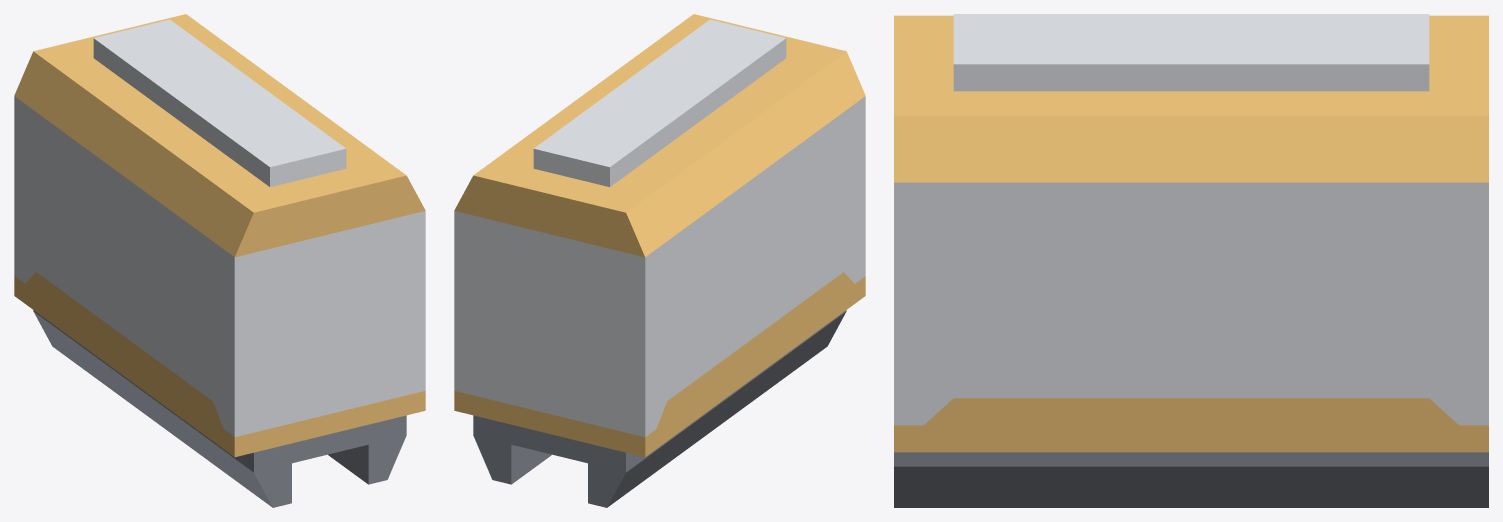
File: monorail_trainBox.glb
3 views of the same model, side by side, from view 1: azimuth 30°, elevation 25°; view 2: azimuth 150°, elevation 25°; view 3: azimuth 270°, elevation 25° (orthographic). The views are drawn at different scales.
Visible parts, largest first — view 1: monorail_trainBox; view 2: monorail_trainBox; view 3: monorail_trainBox.
Part boxes in pixels (x1,y1,x2,y2): monorail_trainBox: (14,14,425,507); monorail_trainBox: (454,14,865,507); monorail_trainBox: (894,14,1488,507).
Bounding box in the file's own units: 0.5 × 0.8 × 1.
